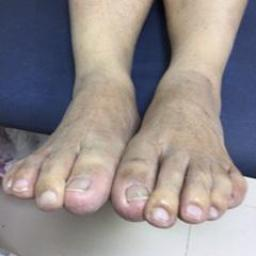Front View -Both Feet-: (2, 15, 251, 237)
